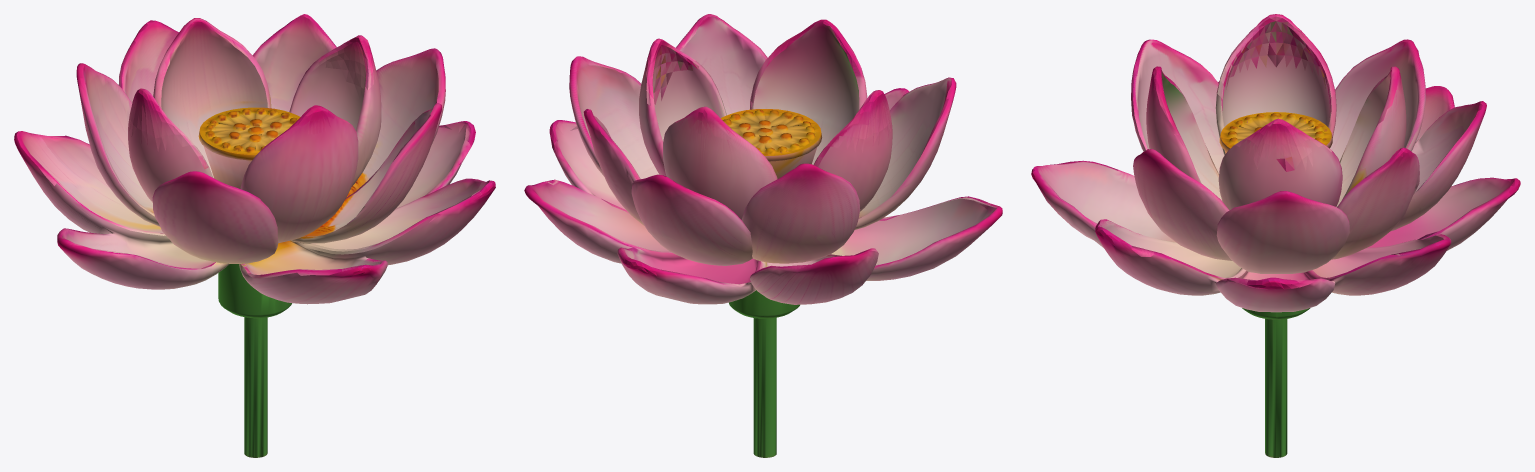
File: lotus.glb
The picture shows the model from 3 angles, left to right: view 1: azimuth 30°, elevation 25°; view 2: azimuth 150°, elevation 25°; view 3: azimuth 270°, elevation 25°; orthographic projection.
Visible parts, largest first — view 1: texture_pbr_v128; view 2: texture_pbr_v128; view 3: texture_pbr_v128.
Part boxes in pixels (x1,y1,x2,y2): texture_pbr_v128: (14, 14, 495, 457); texture_pbr_v128: (524, 14, 1002, 457); texture_pbr_v128: (1031, 14, 1520, 457).
Size of the model in its own units: 1.07 by 0.93 by 1.07.
Materials: 1 (1 with a texture image).
